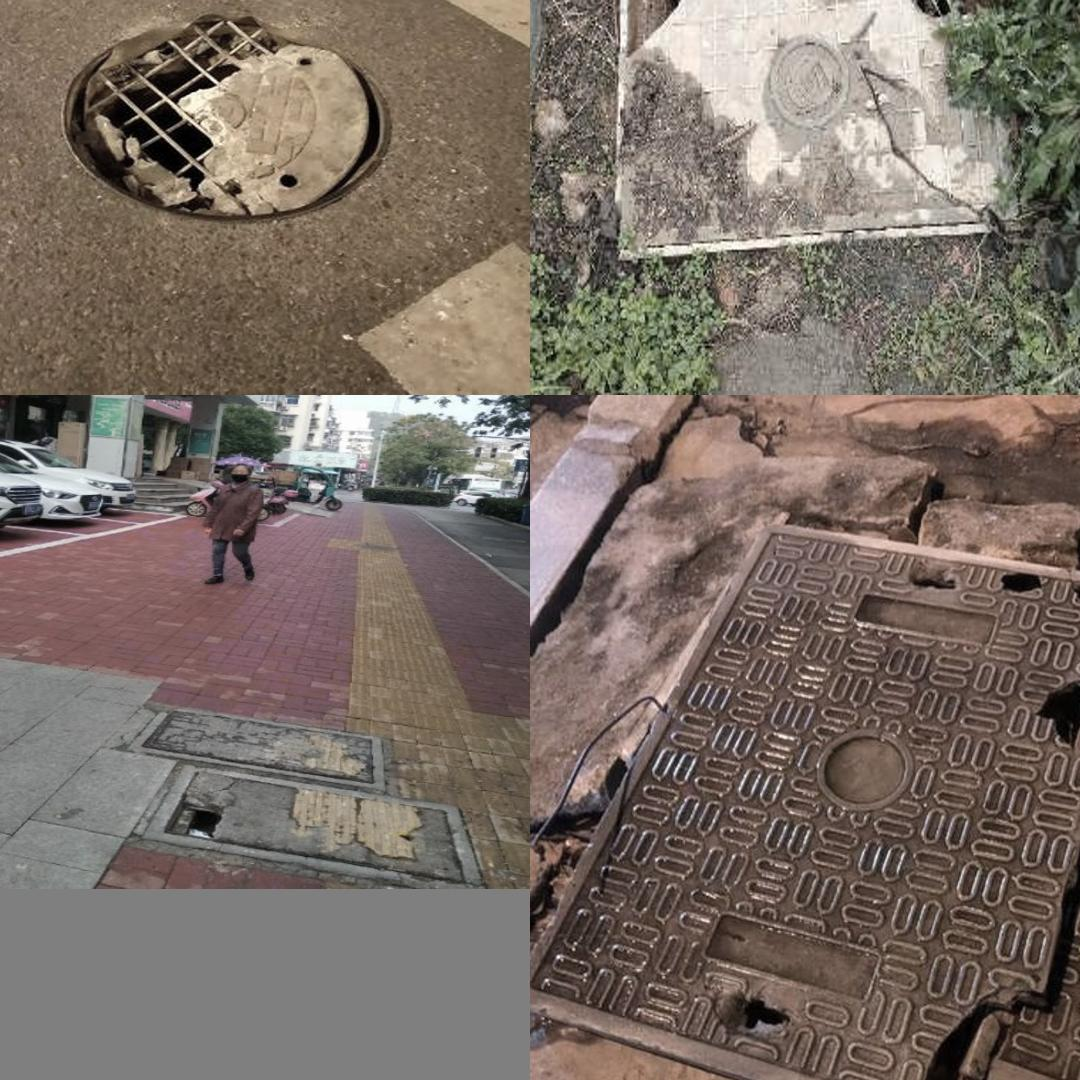broke: (548, 478, 1080, 1080), (614, 0, 1041, 262), (41, 2, 412, 230), (136, 763, 491, 889)
good: (128, 705, 386, 789)
